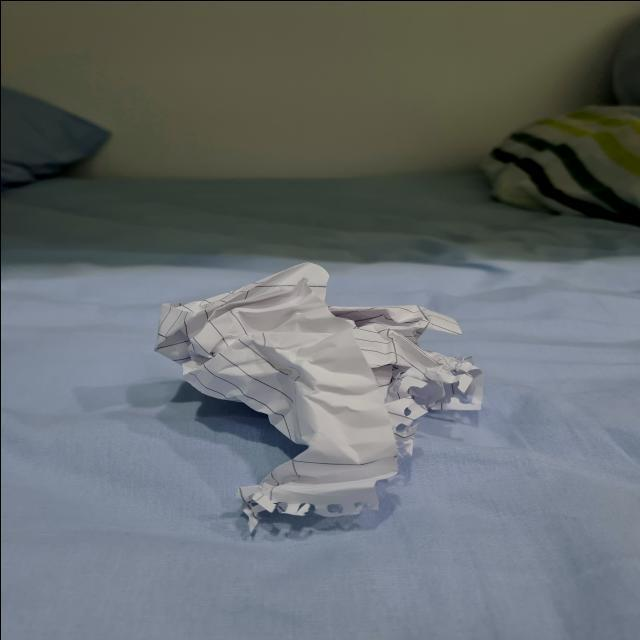Paper: (148, 249, 494, 555)
